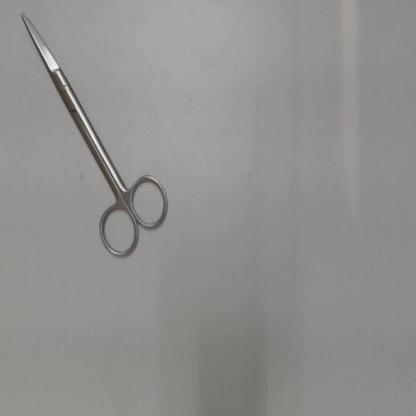Curved Mayo Scissors: (16, 6, 174, 265)
